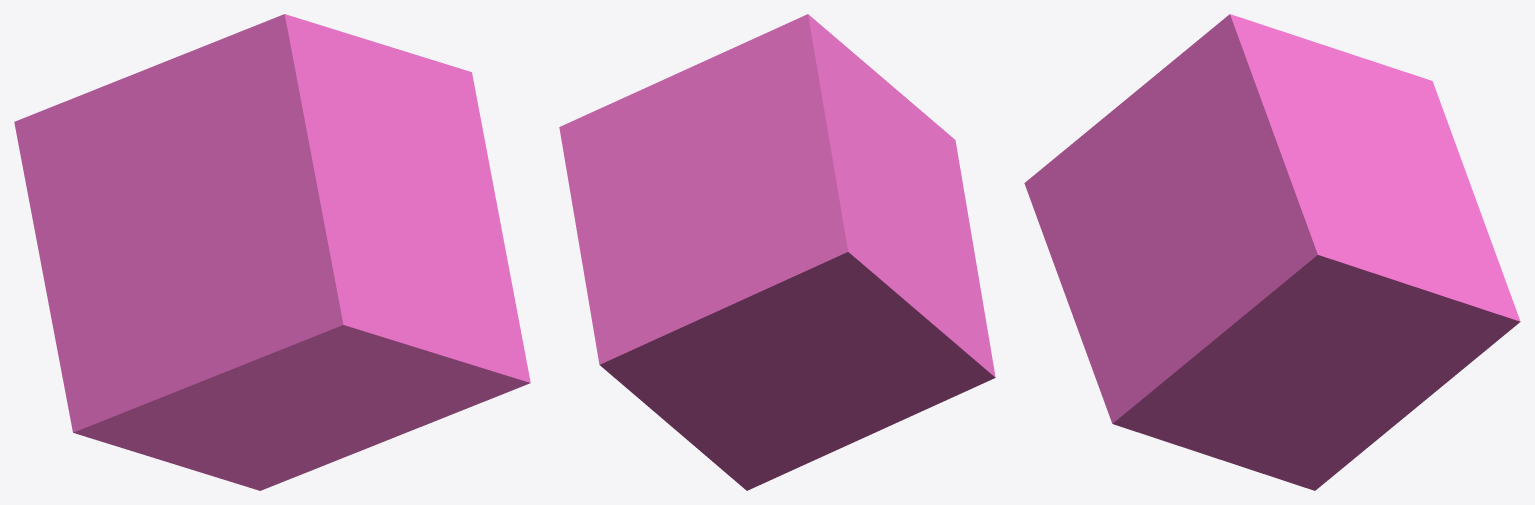
Rendered from InfoExpo_ArqueologiaDeSiMisma.gltf.
3 renders of one model, left to right at view 1: azimuth 30°, elevation 25°; view 2: azimuth 150°, elevation 25°; view 3: azimuth 270°, elevation 25°, orthographic. The views are drawn at different scales.
Visible parts, largest first — view 1: InfoExpo_ArqueologiaDeSiMisma; view 2: InfoExpo_ArqueologiaDeSiMisma; view 3: InfoExpo_ArqueologiaDeSiMisma.
Boxes of the visible parts, <box> form: InfoExpo_ArqueologiaDeSiMisma: <box>14,14,530,490</box>; InfoExpo_ArqueologiaDeSiMisma: <box>559,14,995,490</box>; InfoExpo_ArqueologiaDeSiMisma: <box>1024,14,1520,490</box>.
Bounding box in the file's own units: 0.3329 × 0.3661 × 0.3526.
